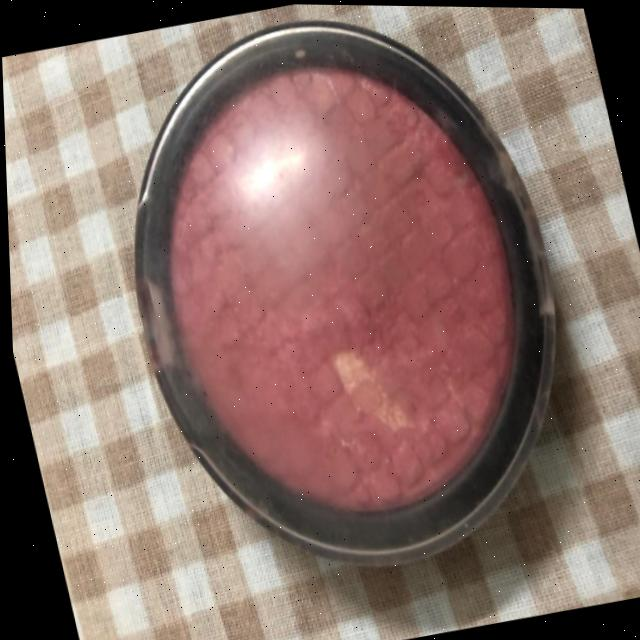blush: (61, 1, 607, 605)
